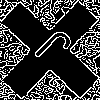J: (25, 25, 75, 76)
